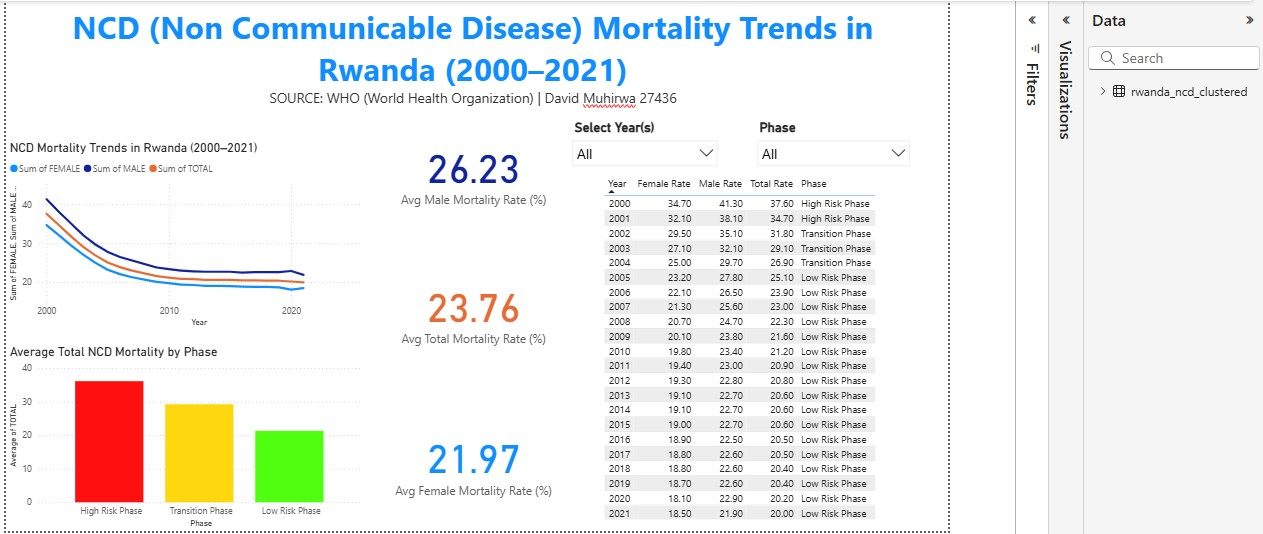

This screenshot's page, from the dashboard's own definition file:
{"tool":"powerbi","page":{"name":"Page 1","canvas":[1280,720],"ordinal":0},"visuals":[{"type":"textbox","box":[10.1,0,1249.8,115.9],"z":0},{"type":"lineChart","title":"NCD Mortality Trends in Rwanda (2000–2021)","fields":{"Y":["Sum(rwanda_ncd_clustered.FEMALE)","Sum(rwanda_ncd_clustered.MALE)","Sum(rwanda_ncd_clustered.TOTAL)"],"Category":["rwanda_ncd_clustered.Year"]},"box":[0,188.6,488.6,258.8],"z":1000},{"type":"clusteredColumnChart","title":"Average Total NCD Mortality by Phase","fields":{"Category":["rwanda_ncd_clustered.Phase"],"Y":["Avg(rwanda_ncd_clustered.TOTAL)"]},"box":[0,466,490.4,254],"z":2000},{"type":"card","fields":{"Values":["Avg(rwanda_ncd_clustered.FEMALE)"]},"box":[521.9,543.4,226.9,165.7],"z":3000},{"type":"card","fields":{"Values":["Avg(rwanda_ncd_clustered.MALE)"]},"box":[521.6,159.7,227.1,143.1],"z":4000},{"type":"card","fields":{"Values":["Avg(rwanda_ncd_clustered.TOTAL)"]},"box":[521.6,342.7,227.1,155.5],"z":5000},{"type":"slicer","fields":{"Values":["rwanda_ncd_clustered.Year"]},"box":[759.4,145.4,217.4,80.2],"z":6000},{"type":"slicer","fields":{"Values":["rwanda_ncd_clustered.Phase"]},"box":[1010.7,145.4,226.9,80.2],"z":7000},{"type":"tableEx","fields":{"Values":["rwanda_ncd_clustered.Year","rwanda_ncd_clustered.FEMALE","rwanda_ncd_clustered.MALE","rwanda_ncd_clustered.TOTAL","rwanda_ncd_clustered.Phase"]},"box":[806.5,232.6,386.8,477.6],"z":8000}]}

Visuals, with their boxes on the page's 1280x720 design canvas (x1, y1, x2, y2). These are canvas units, not pixel positions in the 1263x534 screenshot, which may show the page scaled, cropped or inside an application window:
textbox: crop(10, 0, 1260, 116)
"NCD Mortality Trends in Rwanda (2000–2021)" lineChart: crop(0, 189, 489, 447)
"Average Total NCD Mortality by Phase" clusteredColumnChart: crop(0, 466, 490, 720)
card - Avg(rwanda_ncd_clustered.FEMALE): crop(522, 543, 749, 709)
card - Avg(rwanda_ncd_clustered.MALE): crop(522, 160, 749, 303)
card - Avg(rwanda_ncd_clustered.TOTAL): crop(522, 343, 749, 498)
slicer - rwanda_ncd_clustered.Year: crop(759, 145, 977, 226)
slicer - rwanda_ncd_clustered.Phase: crop(1011, 145, 1238, 226)
tableEx - rwanda_ncd_clustered.Year x rwanda_ncd_clustered.FEMALE: crop(806, 233, 1193, 710)
